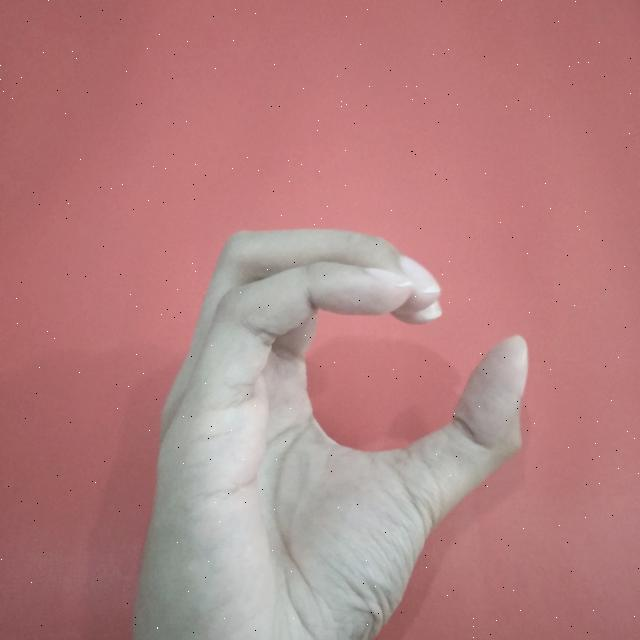C: (125, 227, 540, 640)
